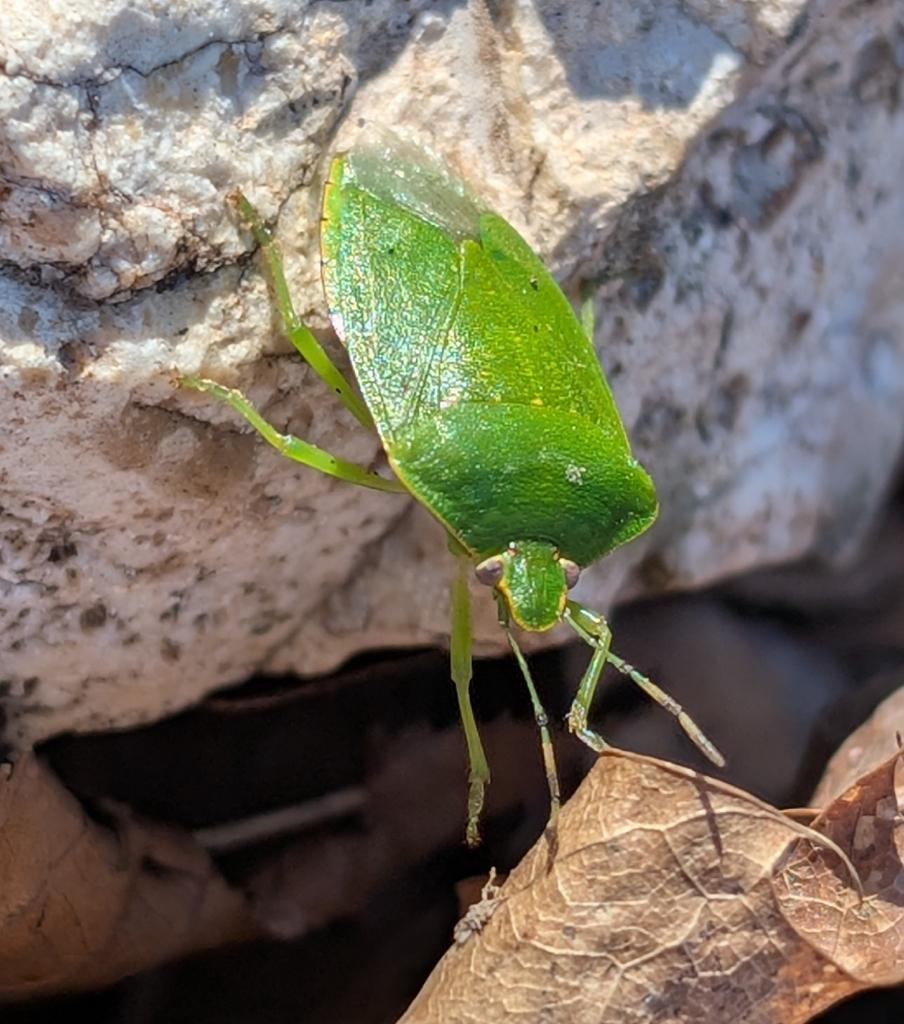stink_bugs: (120, 25, 839, 942)
